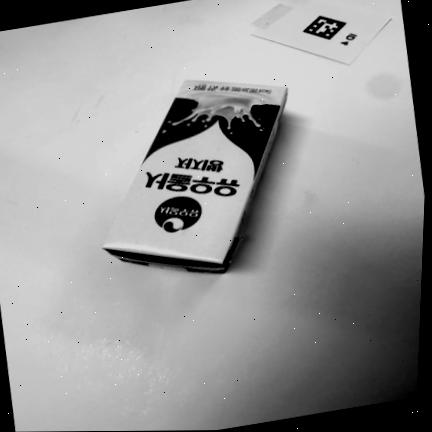milk_blue: (104, 80, 288, 272)
